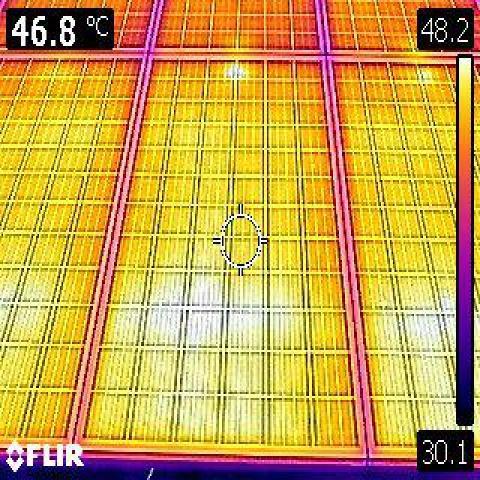fault: (133, 274, 266, 350), (225, 65, 247, 79)
